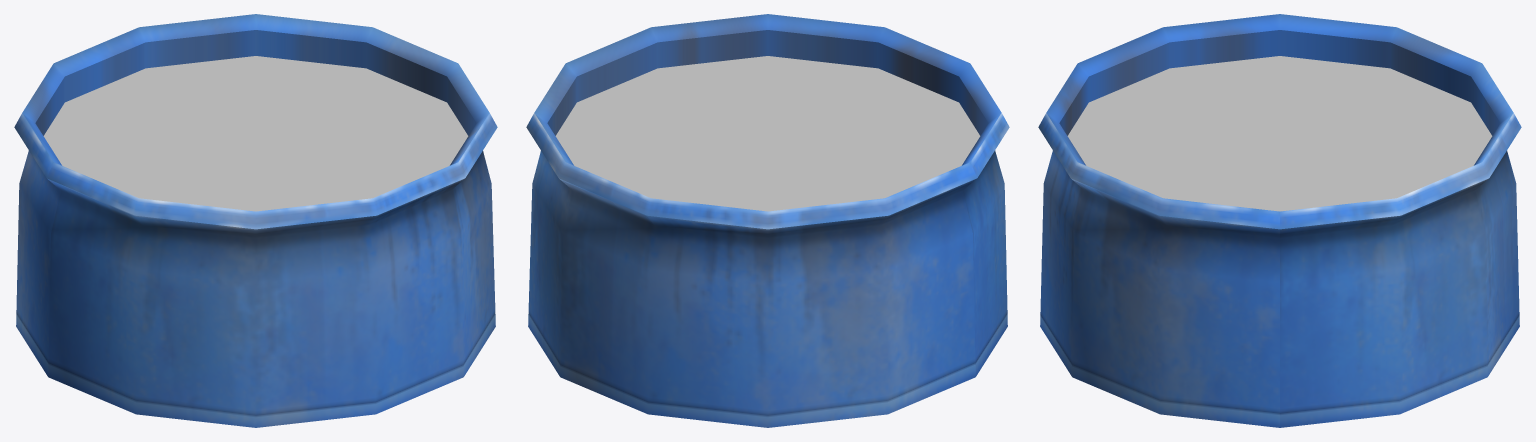
The model's file is raisedBed_barrel05.fbx.
3 renders of one model, left to right at view 1: azimuth 30°, elevation 25°; view 2: azimuth 150°, elevation 25°; view 3: azimuth 270°, elevation 25°, orthographic.
Parts seen in each view (by area): view 1: raisedBed_barrel05; view 2: raisedBed_barrel05; view 3: raisedBed_barrel05.
Part boxes in pixels (left/top/right/bottom): raisedBed_barrel05: left=14, top=14, right=497, bottom=427; raisedBed_barrel05: left=526, top=14, right=1009, bottom=427; raisedBed_barrel05: left=1038, top=14, right=1521, bottom=427.
Bounding box in the file's own units: 62.13 × 30.33 × 62.13.
